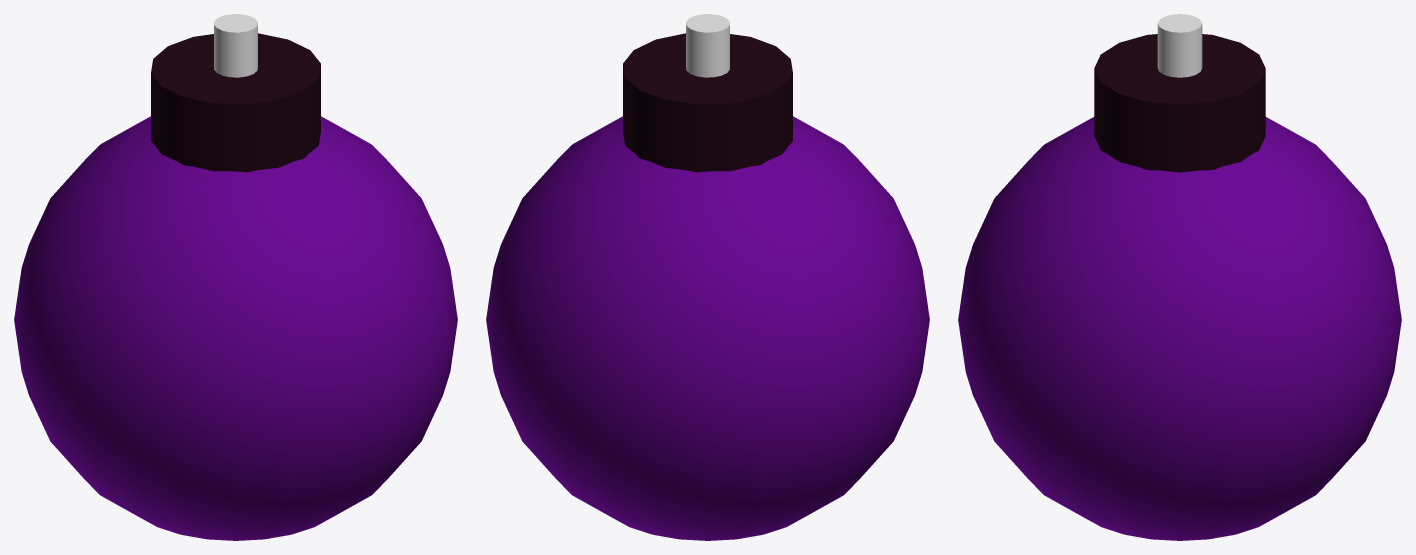
Rendered from grapeBomb.fbx.
3 views of the same model, side by side, from view 1: azimuth 30°, elevation 25°; view 2: azimuth 150°, elevation 25°; view 3: azimuth 270°, elevation 25° (orthographic).
Visible parts, largest first — view 1: grapeBomb; view 2: grapeBomb; view 3: grapeBomb.
Part boxes in pixels (left/top/right/bottom): grapeBomb: left=14, top=14, right=457, bottom=540; grapeBomb: left=486, top=14, right=929, bottom=540; grapeBomb: left=958, top=14, right=1401, bottom=540.
Size of the model in its own units: 200 by 248 by 200.
